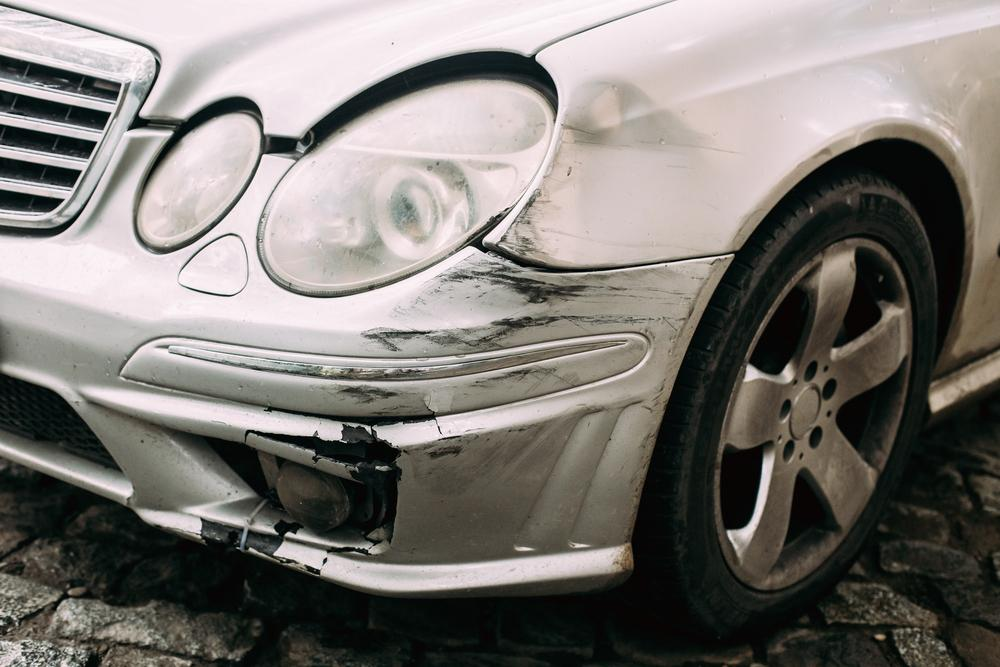crack: (241, 429, 401, 470), (257, 541, 383, 576)
dent: (508, 74, 732, 264)
scratch: (355, 250, 715, 356), (330, 354, 582, 415), (406, 419, 547, 495)
